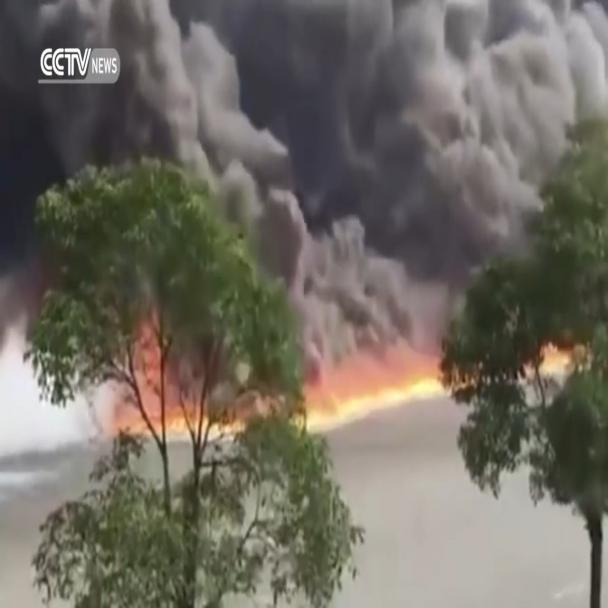fire: (309, 392, 378, 435), (378, 372, 445, 406)
smoke: (132, 1, 608, 162), (251, 162, 539, 283), (0, 340, 100, 452), (305, 283, 452, 358)
